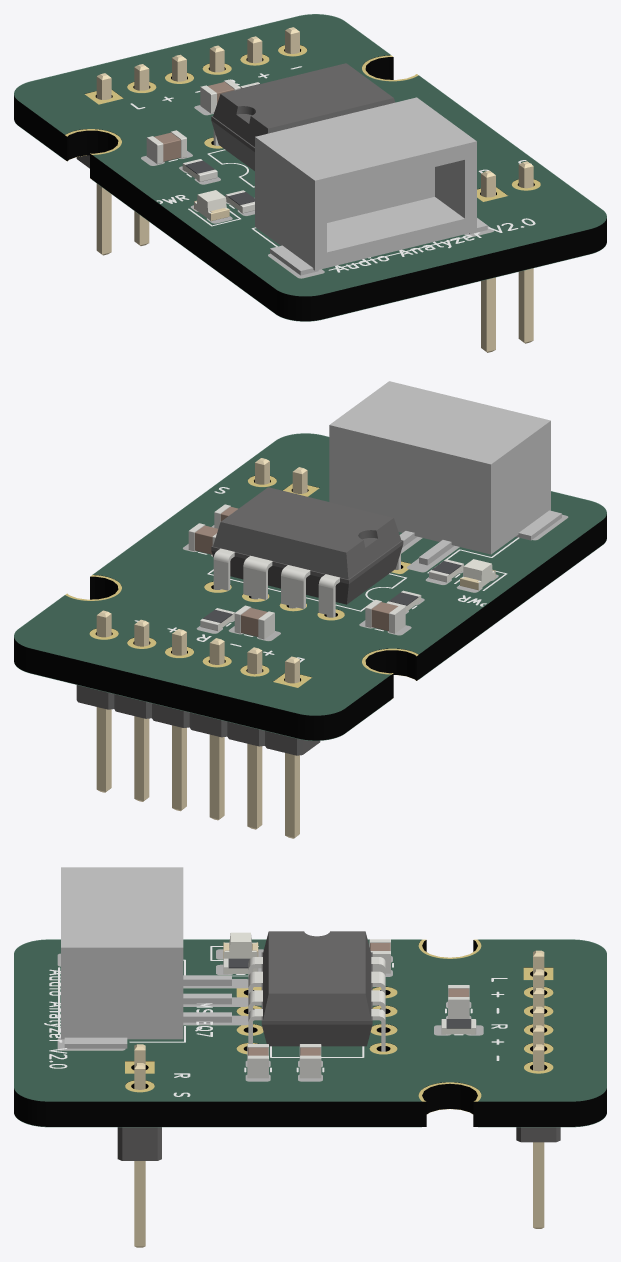
Rendered from dfrobot-module.glb.
3 views of the same model, one above another, from view 1: azimuth 30°, elevation 25°; view 2: azimuth 150°, elevation 25°; view 3: azimuth 270°, elevation 25° (orthographic).
Visible parts, largest first — view 1: dfrobot-module_visual_layers_1, dfrobot-module_visual_layers_4, J1, U1, J2J3, J4, dfrobot-module_visual_layers_2, dfrobot-module_visual_layers_7, C1, dfrobot-module_visual_layers_3, D1, C4 (+3 smaller); view 2: dfrobot-module_visual_layers_1, dfrobot-module_visual_layers_4, J1, U1, J2J3, dfrobot-module_visual_layers_2, dfrobot-module_visual_layers_3, C4, C1, dfrobot-module_visual_layers_7, D1, J4 (+1 smaller); view 3: dfrobot-module_visual_layers_1, dfrobot-module_visual_layers_4, J1, U1, J2J3, J4, dfrobot-module_visual_layers_2, dfrobot-module_visual_layers_3, dfrobot-module_visual_layers_7, D1, C2, C3 (+4 smaller).
Boxes of the visible parts, box(x1,y1,x2,y2) form: dfrobot-module_visual_layers_1: box(14, 15, 606, 321); dfrobot-module_visual_layers_4: box(14, 14, 606, 296); J1: box(255, 97, 487, 275); U1: box(211, 63, 395, 170); J2J3: box(76, 27, 299, 255); J4: box(481, 161, 533, 352); dfrobot-module_visual_layers_2: box(65, 45, 540, 201); dfrobot-module_visual_layers_7: box(130, 66, 535, 272); C1: box(146, 130, 186, 164); dfrobot-module_visual_layers_3: box(141, 105, 493, 278); D1: box(194, 190, 229, 221); C4: box(200, 79, 240, 113); dfrobot-module_visual_layers_1: box(14, 434, 606, 740); dfrobot-module_visual_layers_4: box(14, 433, 606, 715); J1: box(329, 381, 561, 565); U1: box(211, 487, 403, 617); J2J3: box(76, 610, 320, 838); dfrobot-module_visual_layers_2: box(65, 476, 418, 687); dfrobot-module_visual_layers_3: box(183, 514, 568, 640); C4: box(234, 605, 274, 639); C1: box(365, 600, 405, 633); dfrobot-module_visual_layers_7: box(134, 487, 519, 662); D1: box(460, 559, 495, 590); J4: box(255, 458, 307, 493); dfrobot-module_visual_layers_1: box(14, 940, 606, 1126); dfrobot-module_visual_layers_4: box(14, 939, 606, 1101); J1: box(61, 867, 231, 1048); U1: box(248, 931, 385, 1051); J2J3: box(516, 950, 560, 1228); J4: box(117, 1044, 161, 1247); dfrobot-module_visual_layers_2: box(125, 939, 553, 1101); dfrobot-module_visual_layers_3: box(57, 949, 483, 1081); dfrobot-module_visual_layers_7: box(44, 946, 507, 1096); D1: box(223, 932, 258, 958); C2: box(299, 1044, 321, 1078); C3: box(247, 1044, 268, 1078).
Size of the model in its own units: 0.022 by 0.0161 by 0.034.
